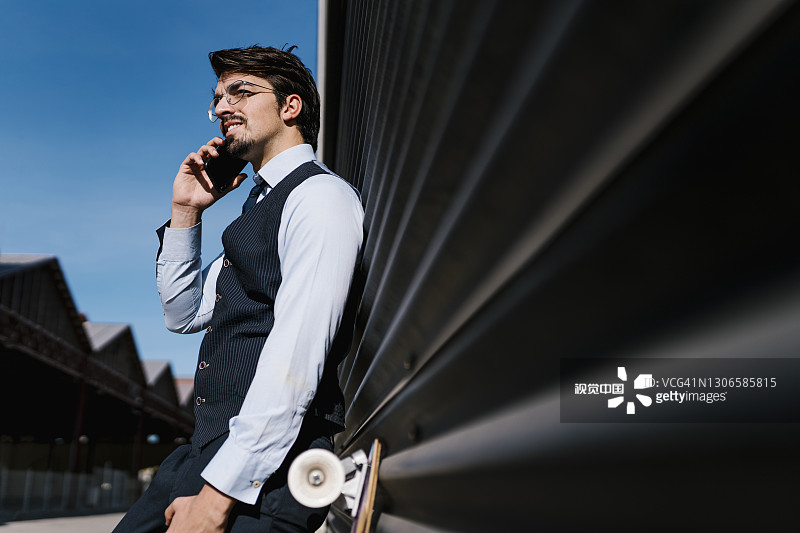calling: (159, 125, 262, 218)
